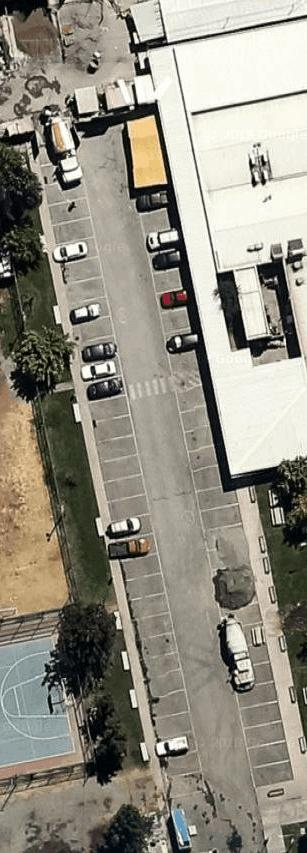parkingspot: (43, 176, 209, 801), (131, 185, 254, 573), (232, 678, 297, 792)
